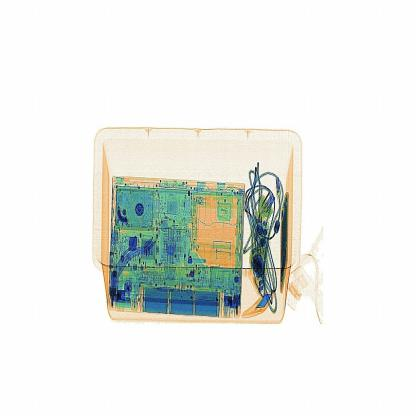pliers: (239, 279, 277, 322)
